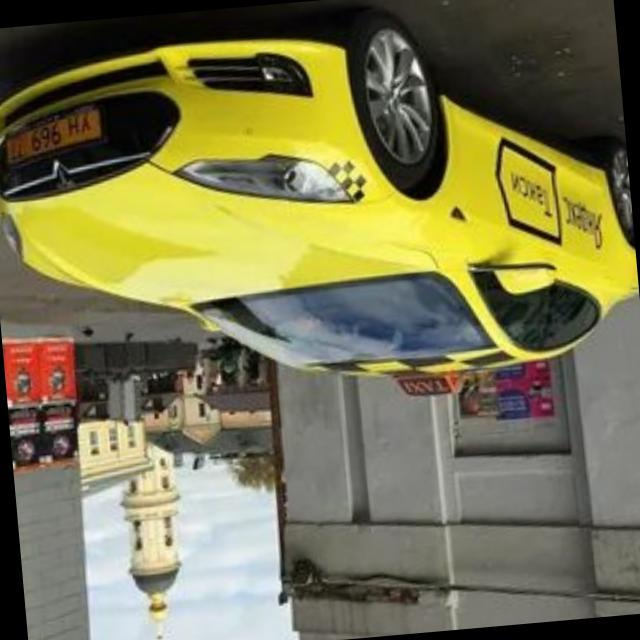taxi: (1, 1, 640, 435)
